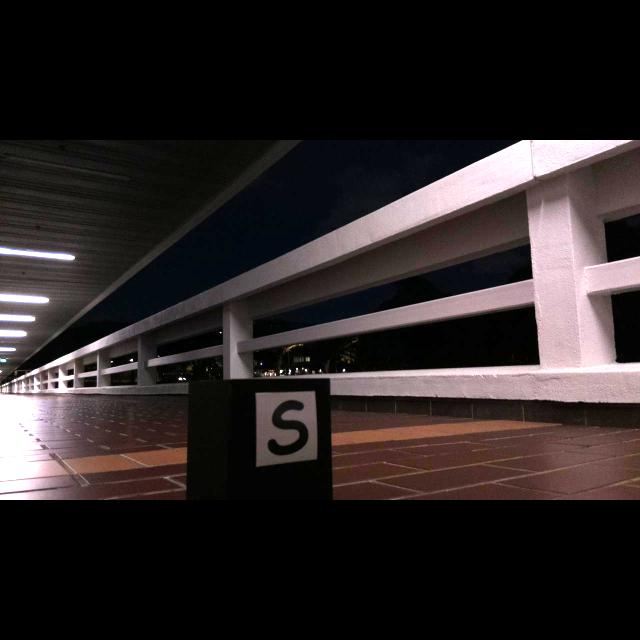S: (267, 400, 309, 455)
